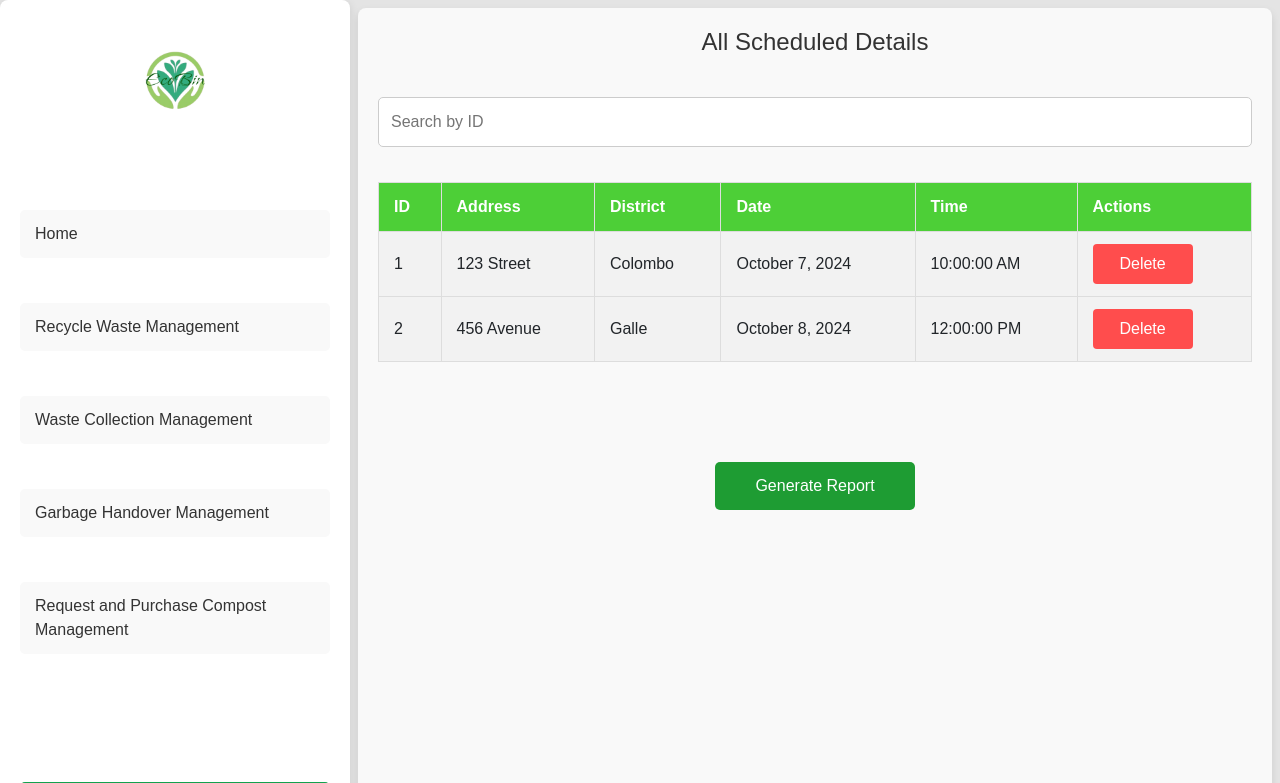
it: SeeSchedule Component › successfully deletes a schedule when delete button is clicked
Expected: the text "123 Street" is shown, [441,231,594,296]
// Simulate clicking the delete button for the first schedule
Click the button "Delete" in the row of "123 Street": (1143, 264) [1093,244,1193,284]
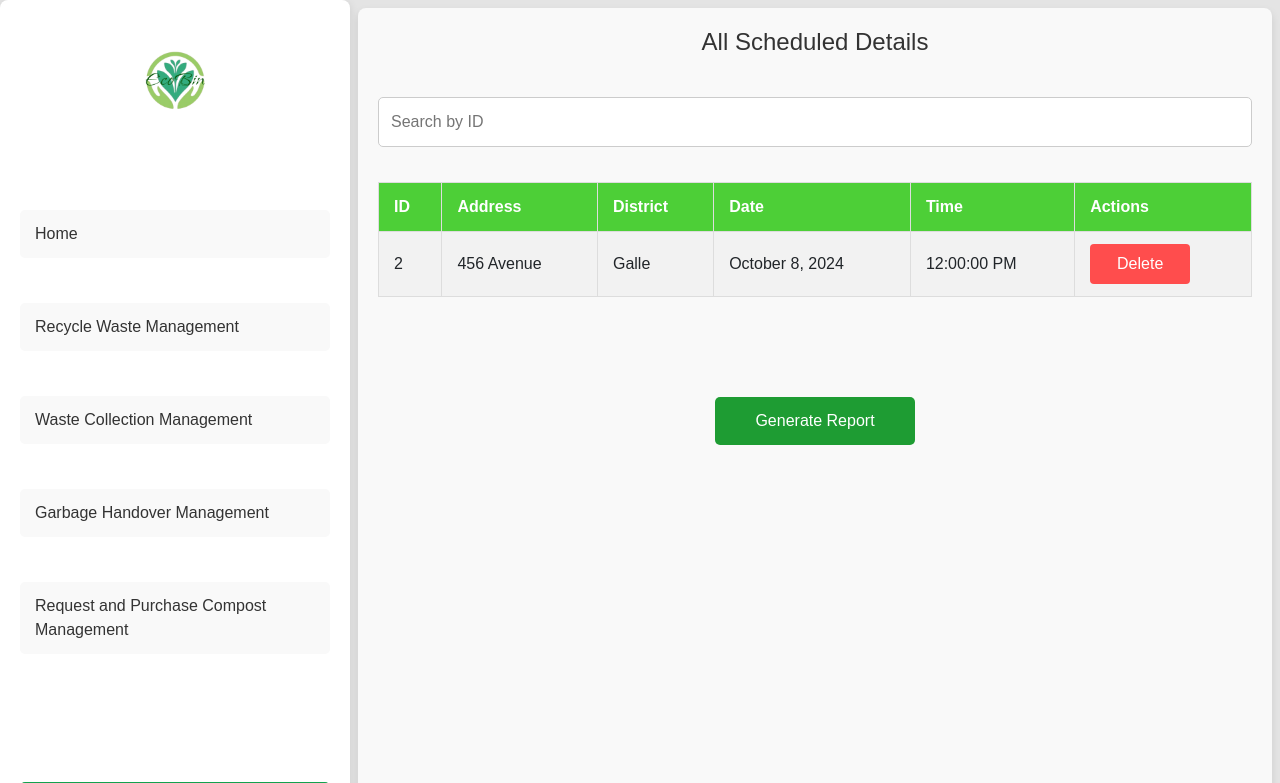
Result: the text "123 Street" is gone
